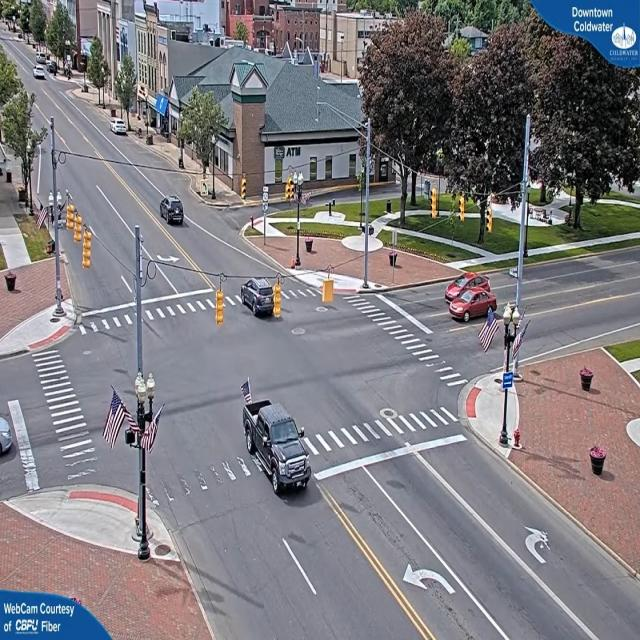car: (249, 403, 313, 499), (239, 276, 279, 318), (451, 287, 494, 323), (160, 195, 186, 226), (111, 119, 129, 136), (36, 66, 48, 78)
